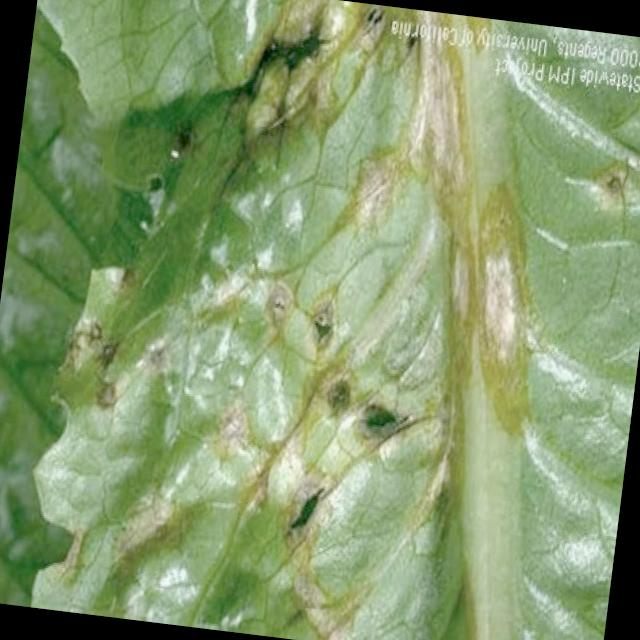Bacterial: (179, 227, 447, 608)
